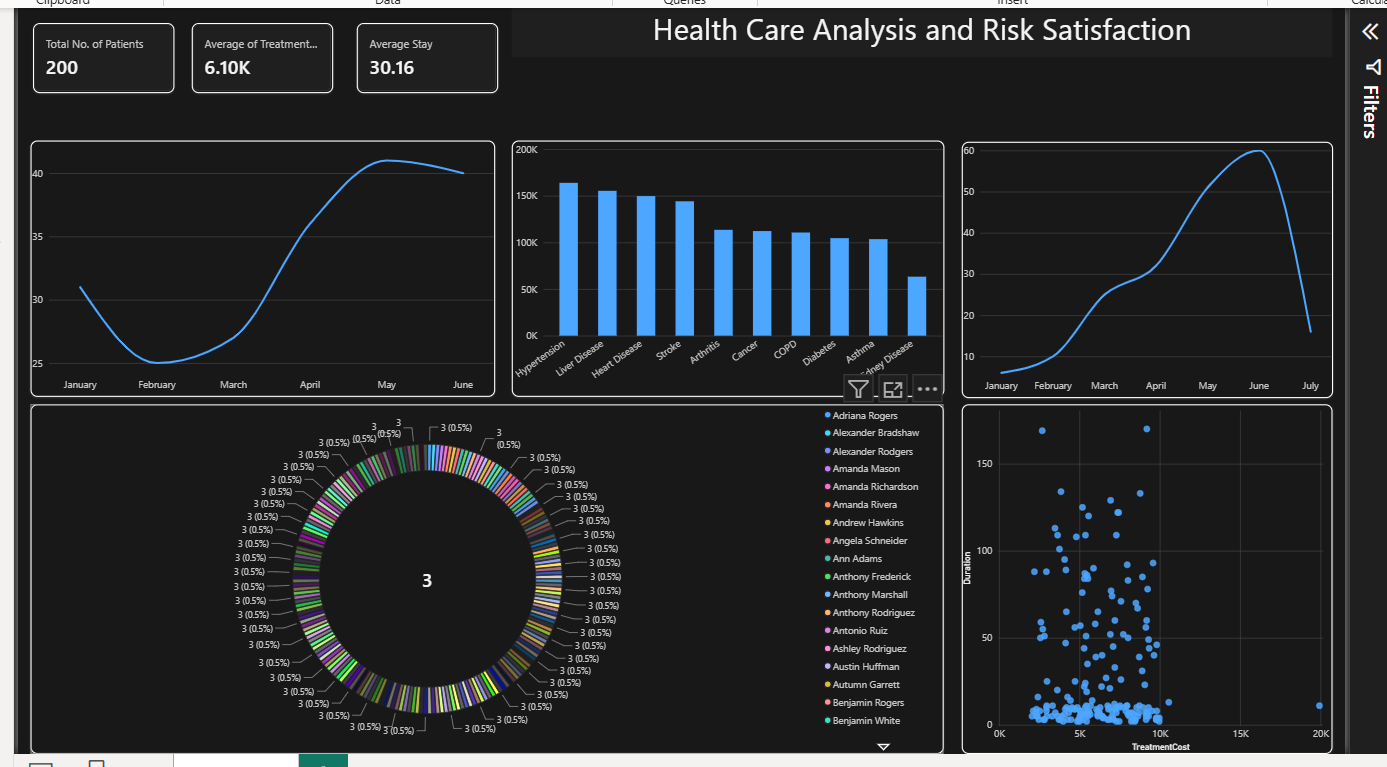

Layout of this report page (visuals, bound fields, positions):
{"tool":"powerbi","page":{"name":"Dashboard","canvas":[1920,1080],"ordinal":0},"visuals":[{"type":"cardVisual","fields":{"Data":["CountNonNull(patients.Name)"]},"box":[21.7,21.7,204.5,101.3],"z":0},{"type":"cardVisual","fields":{"Data":["Avg(patients.TreatmentCost)"]},"box":[251.5,21.7,204.5,101.3],"z":1},{"type":"cardVisual","fields":{"Data":["Avg(patients.Duration)"]},"box":[490.4,21.7,204.5,101.3],"z":2},{"type":"lineChart","title":"Patients Admitted","fields":{"Category":["patients.AdmissionDate.Variation.Date Hierarchy.Month"],"Y":["CountNonNull(patients.PatientID)"]},"box":[18.1,191.8,673.2,371],"z":3},{"type":"lineChart","title":"Patients Discharged","fields":{"Category":["patients.DischargeDate.Variation.Date Hierarchy.Month"],"Y":["CountNonNull(patients.PatientID)"]},"box":[1366.3,193.6,537.5,371],"z":4},{"type":"clusteredColumnChart","fields":{"Category":["diagnoses.DiagnosisName"],"Y":["Sum(patients.TreatmentCost)"]},"box":[714.8,191.8,626.1,371],"z":5},{"type":"donutChart","title":"Number of Patients in Outcome Category","fields":{"Category":["patients.Name"],"Y":["Count(outcomes.OutcomeName)"]},"box":[17.3,573.5,1322.3,506.4],"z":6},{"type":"scatterChart","fields":{"Category":["patients.TreatmentCost"],"X":["Sum(patients.TreatmentCost)"],"Y":["Sum(patients.Duration)"]},"box":[1366,573,537,506],"z":7},{"type":"textbox","box":[714.2,0,1188.1,71.4],"z":8}]}

Visuals, with their boxes in screenshot pixels (x1, y1, x2, y2):
cardVisual - CountNonNull(patients.Name): locate(15, 12, 158, 82)
cardVisual - Avg(patients.TreatmentCost): locate(176, 12, 319, 82)
cardVisual - Avg(patients.Duration): locate(343, 12, 486, 82)
"Patients Admitted" lineChart: locate(13, 131, 483, 390)
"Patients Discharged" lineChart: locate(955, 132, 1331, 391)
clusteredColumnChart - diagnoses.DiagnosisName x Sum(patients.TreatmentCost): locate(500, 131, 938, 390)
"Number of Patients in Outcome Category" donutChart: locate(12, 397, 937, 751)
scatterChart - patients.TreatmentCost x Sum(patients.TreatmentCost): locate(955, 397, 1331, 751)
textbox: locate(499, 0, 1330, 46)
